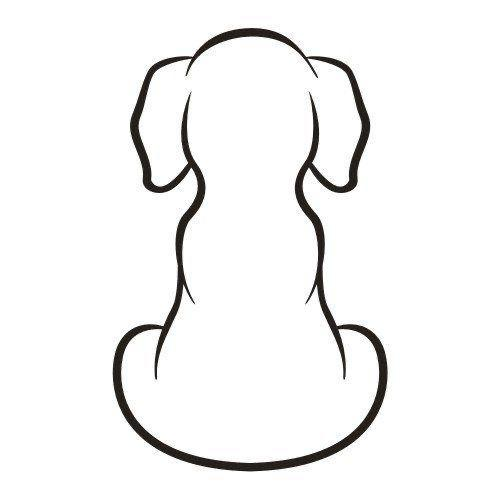adult_dog: (111, 27, 389, 474)
